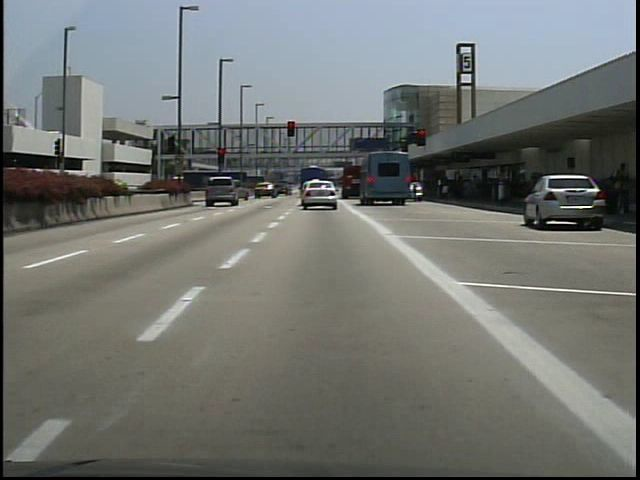person: (613, 165, 629, 215)
